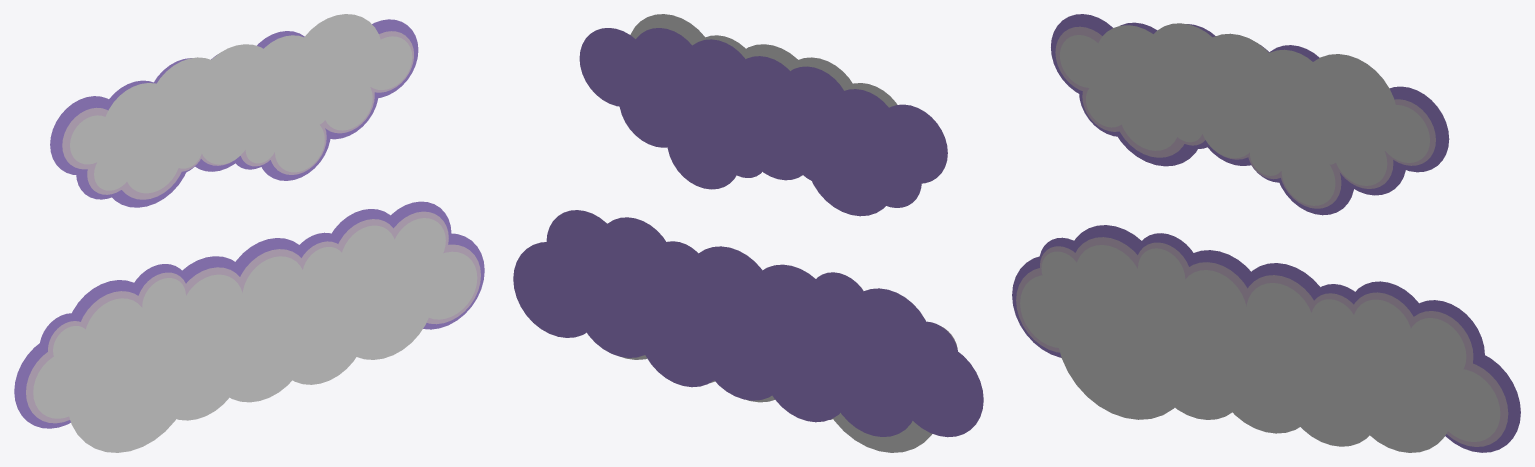
File: cloud.fbx
The picture shows the model from 3 angles, left to right: view 1: azimuth 30°, elevation 25°; view 2: azimuth 150°, elevation 25°; view 3: azimuth 330°, elevation 25°; orthographic projection. The views are drawn at different scales.
Parts seen in each view (by area): view 1: Circle.002, Circle.001; view 2: Circle.002, Circle.001; view 3: Circle.002, Circle.001.
Boxes of the visible parts, bbox=[...] form: Circle.002: bbox=[14, 201, 484, 452]; Circle.001: bbox=[50, 14, 418, 207]; Circle.002: bbox=[513, 210, 983, 452]; Circle.001: bbox=[579, 14, 947, 216]; Circle.002: bbox=[1012, 225, 1520, 452]; Circle.001: bbox=[1051, 14, 1449, 215].
Bounding box in the file's own units: 913 × 715 × 19.43.
